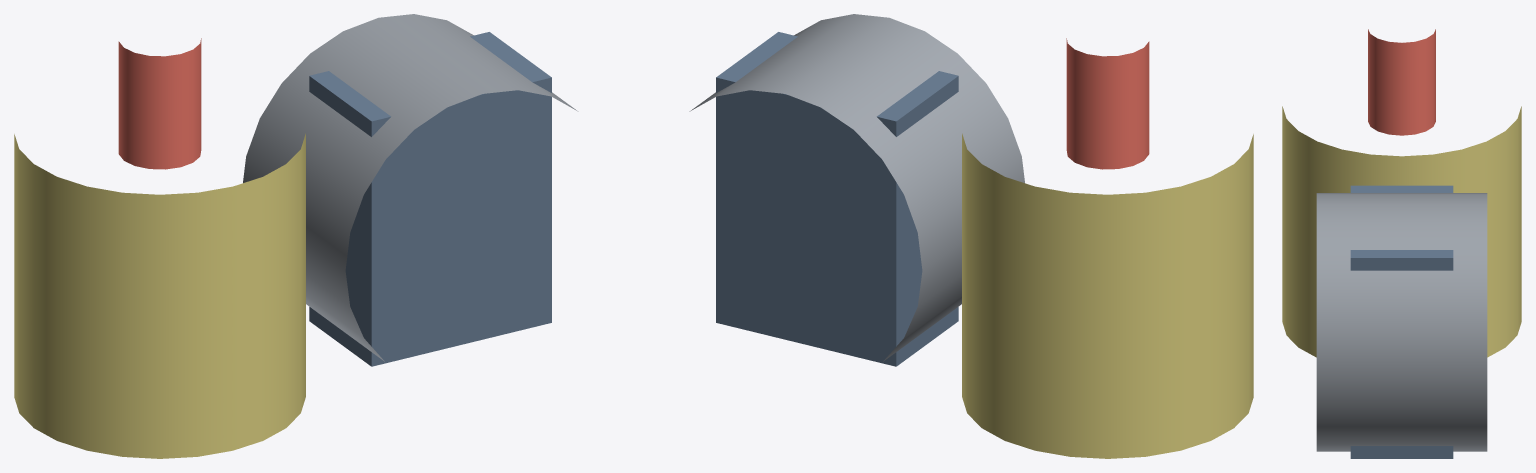
The model's file is reflex_klystron_magnetron.glb.
3 views of the same model, side by side, from view 1: azimuth 30°, elevation 25°; view 2: azimuth 150°, elevation 25°; view 3: azimuth 270°, elevation 25° (orthographic). The views are drawn at different scales.
Visible parts, largest first — view 1: ReflexKlystronResonantCavity, PermanentMagnetPoleYoke, CavityMagnetronAnodeBlock, RepellerElectrodeTerminalPost; view 2: ReflexKlystronResonantCavity, PermanentMagnetPoleYoke, CavityMagnetronAnodeBlock, RepellerElectrodeTerminalPost; view 3: CavityMagnetronAnodeBlock, ReflexKlystronResonantCavity, RepellerElectrodeTerminalPost, PermanentMagnetPoleYoke.
Boxes of the visible parts, left/top/right/bottom form: ReflexKlystronResonantCavity: left=14, top=133, right=305, bottom=458; PermanentMagnetPoleYoke: left=309, top=32, right=551, bottom=366; CavityMagnetronAnodeBlock: left=243, top=14, right=578, bottom=361; RepellerElectrodeTerminalPost: left=118, top=38, right=201, bottom=169; ReflexKlystronResonantCavity: left=962, top=133, right=1253, bottom=458; PermanentMagnetPoleYoke: left=716, top=32, right=958, bottom=366; CavityMagnetronAnodeBlock: left=689, top=14, right=1024, bottom=361; RepellerElectrodeTerminalPost: left=1066, top=38, right=1149, bottom=169; CavityMagnetronAnodeBlock: left=1316, top=193, right=1487, bottom=451; ReflexKlystronResonantCavity: left=1282, top=106, right=1521, bottom=357; RepellerElectrodeTerminalPost: left=1368, top=29, right=1435, bottom=135; PermanentMagnetPoleYoke: left=1350, top=185, right=1453, bottom=458.
Bounding box in the file's own units: 1.48 × 0.98 × 0.7.
